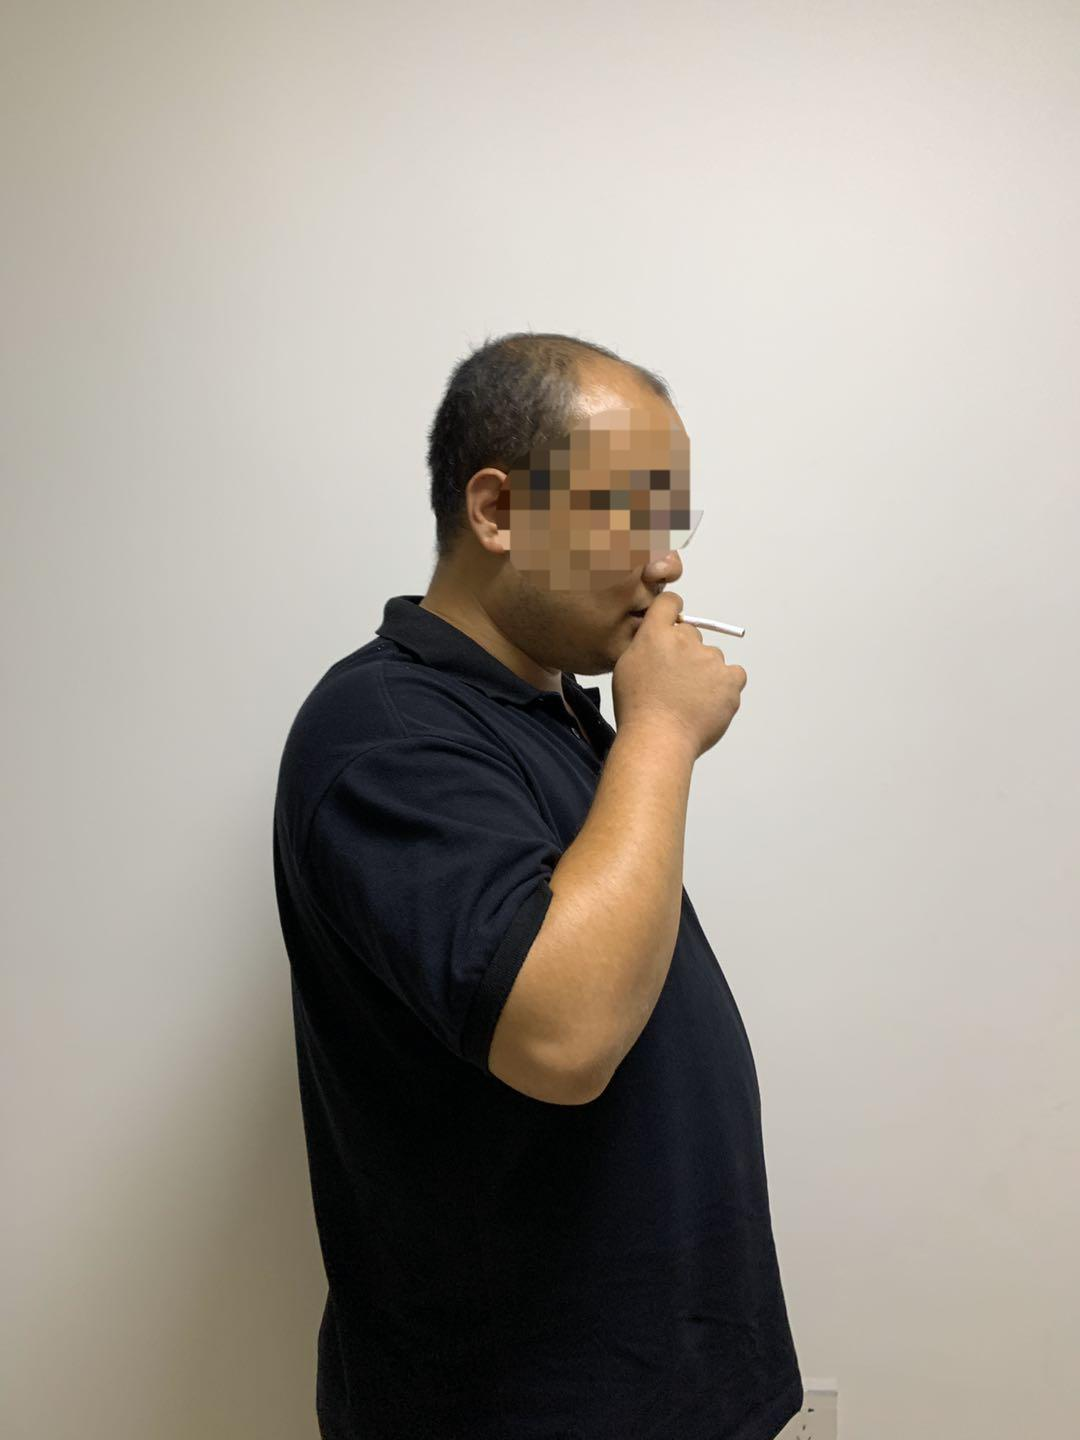smoke: (673, 613, 752, 643)
